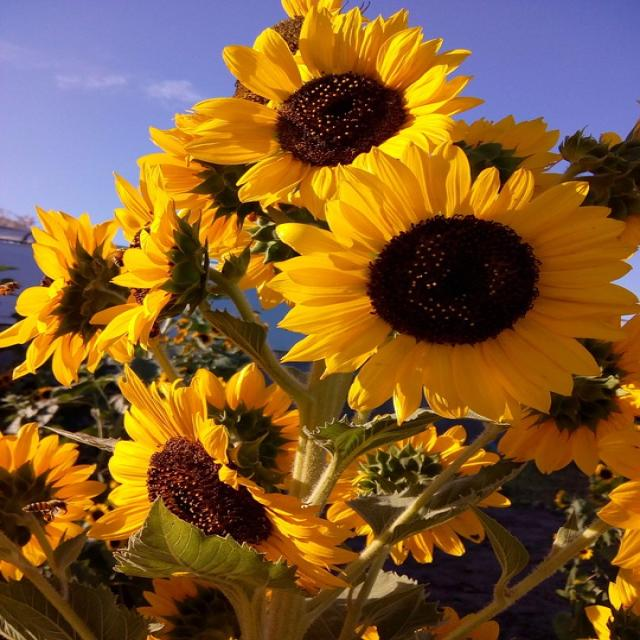sunflower: (249, 128, 627, 458), (45, 362, 394, 605), (175, 6, 485, 214), (9, 190, 194, 398)
